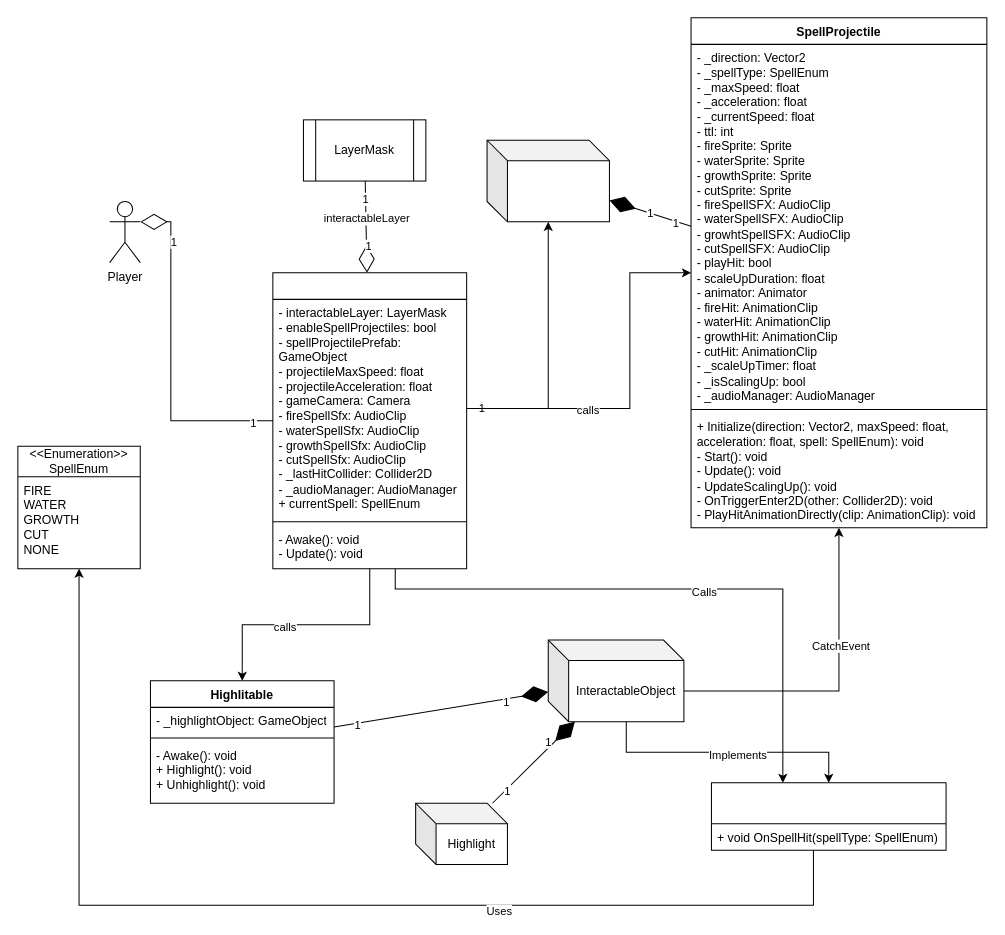
The diagram is 1005 pixels wide and 935 high, and some of its shapes have lost their labels. The box of each missing label's shape, as (x1, y1, x2, y2) in pixels:
<<Interface>> ISpellInteractable: (710, 782, 946, 850)
SpellCaster: (272, 272, 467, 569)
SpellProjectile GameObject: (486, 139, 609, 222)
